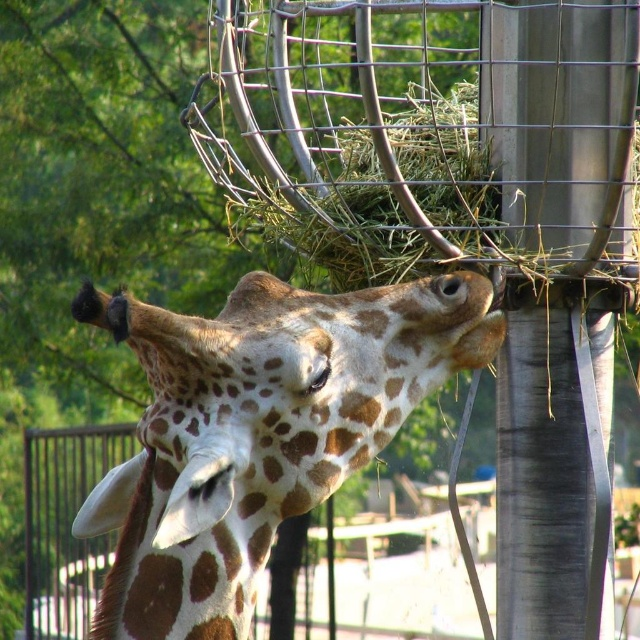Giraffe: (71, 272, 504, 640)
